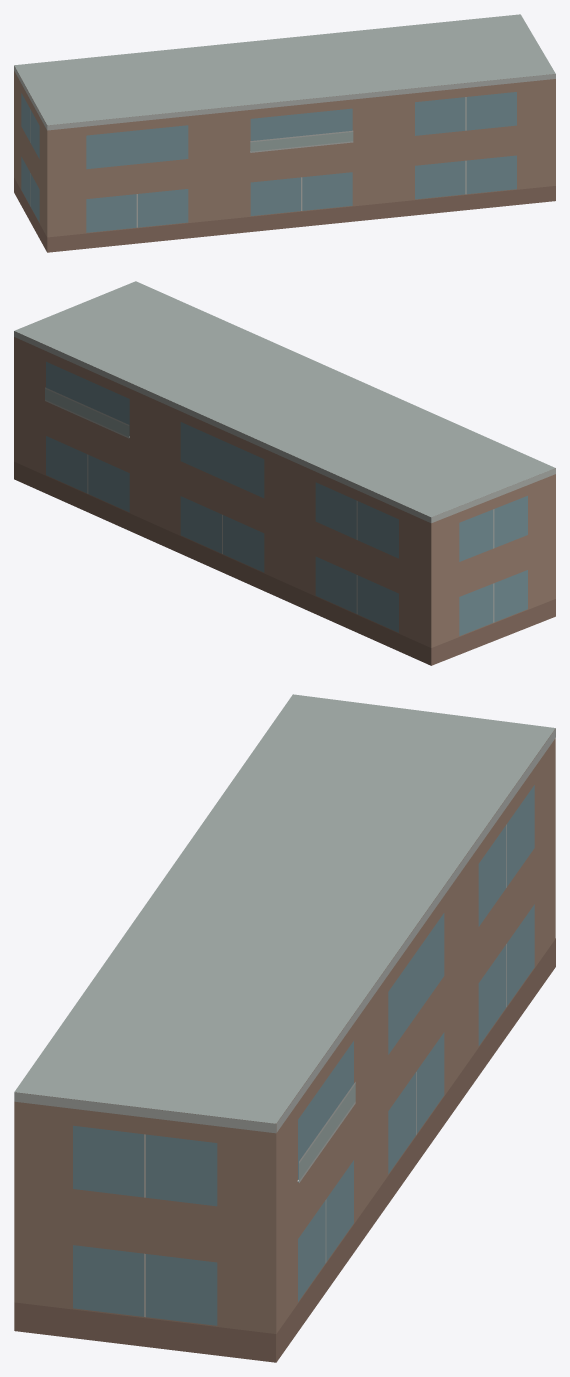
The model's file is survey-upis-32980566.glb.
3 renders of one model, top to bottom at view 1: azimuth 30°, elevation 25°; view 2: azimuth 150°, elevation 25°; view 3: azimuth 270°, elevation 25°, orthographic. The views are drawn at different scales.
Parts seen in each view (by area): view 1: survey-upis-32980566.tmp; view 2: survey-upis-32980566.tmp; view 3: survey-upis-32980566.tmp.
Part boxes in pixels (x1,y1,x2,y2): survey-upis-32980566.tmp: [14, 14, 555, 252]; survey-upis-32980566.tmp: [14, 281, 555, 665]; survey-upis-32980566.tmp: [14, 694, 555, 1362].
Bounding box in the file's own units: 23.54 × 6.1 × 12.55.
